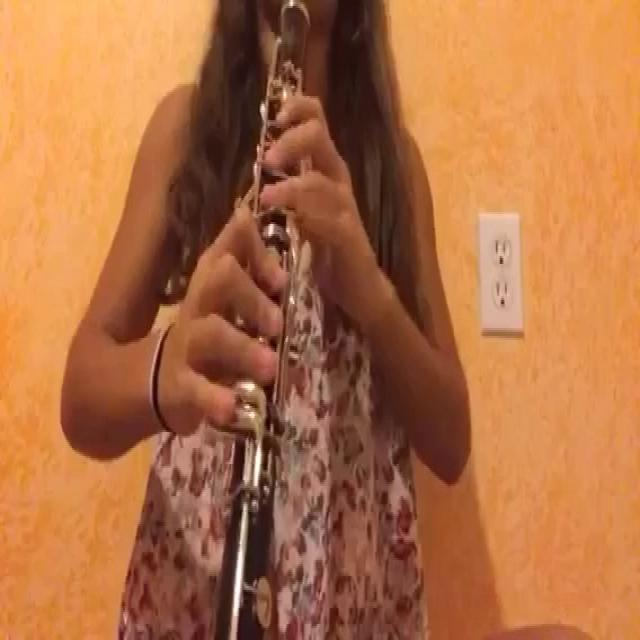Clarinet: (215, 0, 323, 640)
